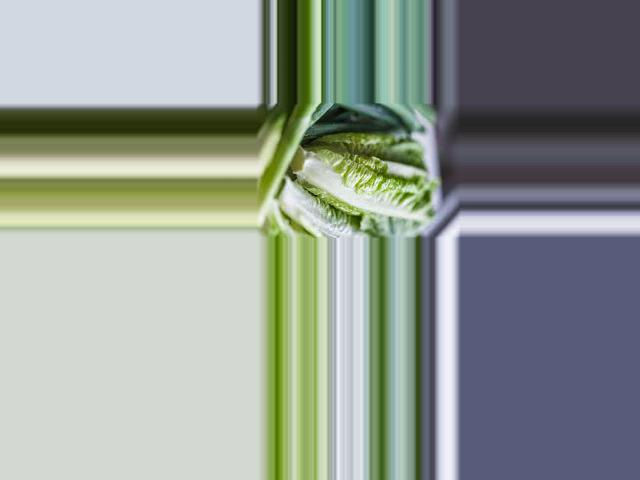lettuce: (297, 116, 452, 244)
